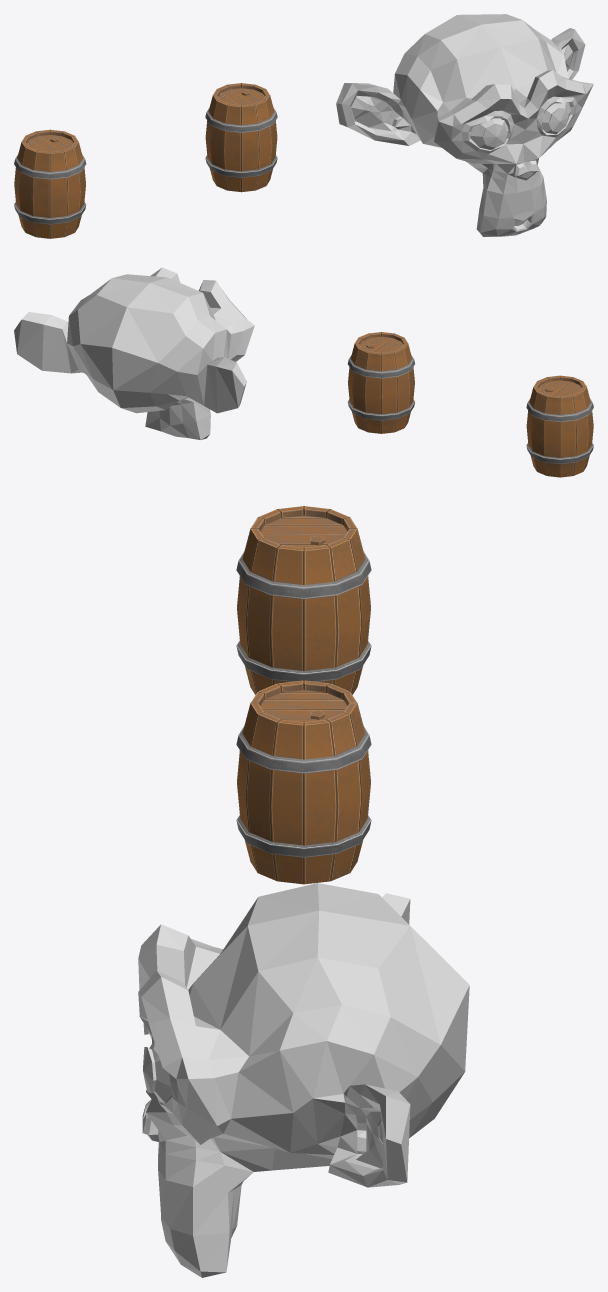
The model's file is parentBarrel.glb.
The picture shows the model from 3 angles, top to bottom: view 1: azimuth 30°, elevation 25°; view 2: azimuth 150°, elevation 25°; view 3: azimuth 270°, elevation 25°; orthographic projection. The views are drawn at different scales.
Visible parts, largest first — view 1: Suzanne, Barrel, Barrel.001; view 2: Suzanne, Barrel.001, Barrel; view 3: Suzanne, Barrel, Barrel.001.
Part boxes in pixels (left/top/right/bottom): Suzanne: left=336, top=14, right=593, bottom=236; Barrel: left=205, top=83, right=277, bottom=192; Barrel.001: left=14, top=129, right=86, bottom=238; Suzanne: left=14, top=267, right=254, bottom=439; Barrel.001: left=526, top=375, right=593, bottom=477; Barrel: left=347, top=332, right=414, bottom=433; Suzanne: left=138, top=883, right=469, bottom=1277; Barrel: left=236, top=680, right=371, bottom=884; Barrel.001: left=236, top=506, right=371, bottom=694.
Bounding box in the file's own units: 6.54 × 1.97 × 1.7.
Materials: 3 (2 with a texture image).
